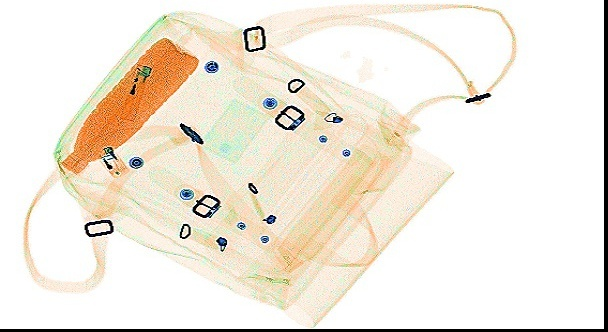lighter: (115, 61, 151, 122), (98, 143, 129, 180)
